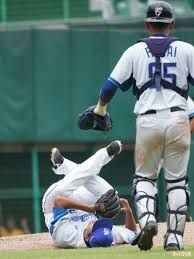falling: (41, 134, 150, 252)
